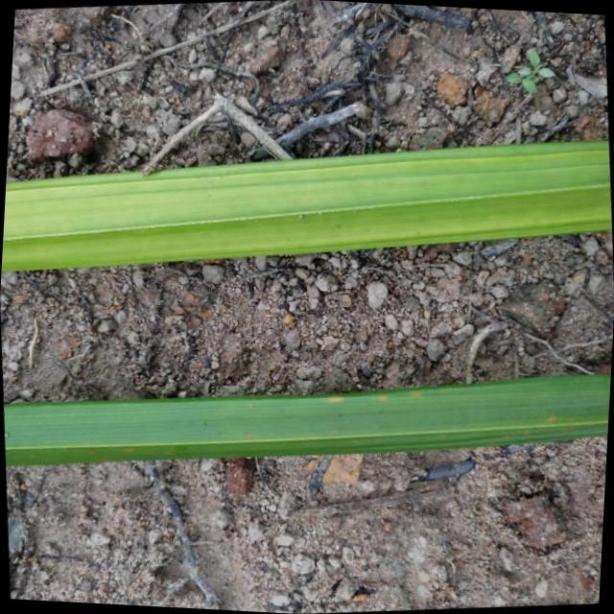nitrogen: (0, 142, 614, 274), (7, 368, 614, 466)
